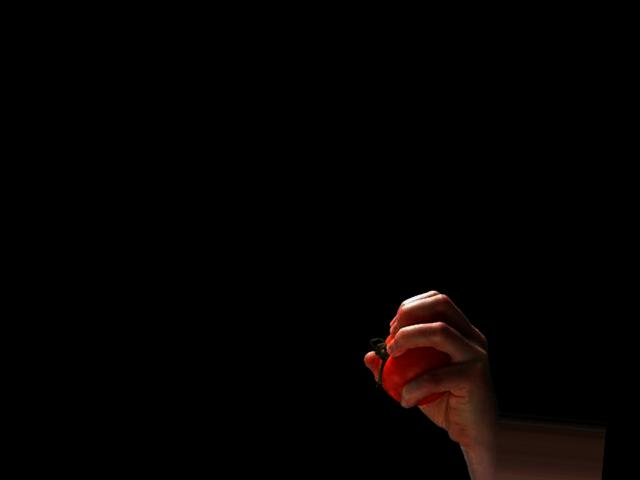tomato: (379, 332, 455, 408)
